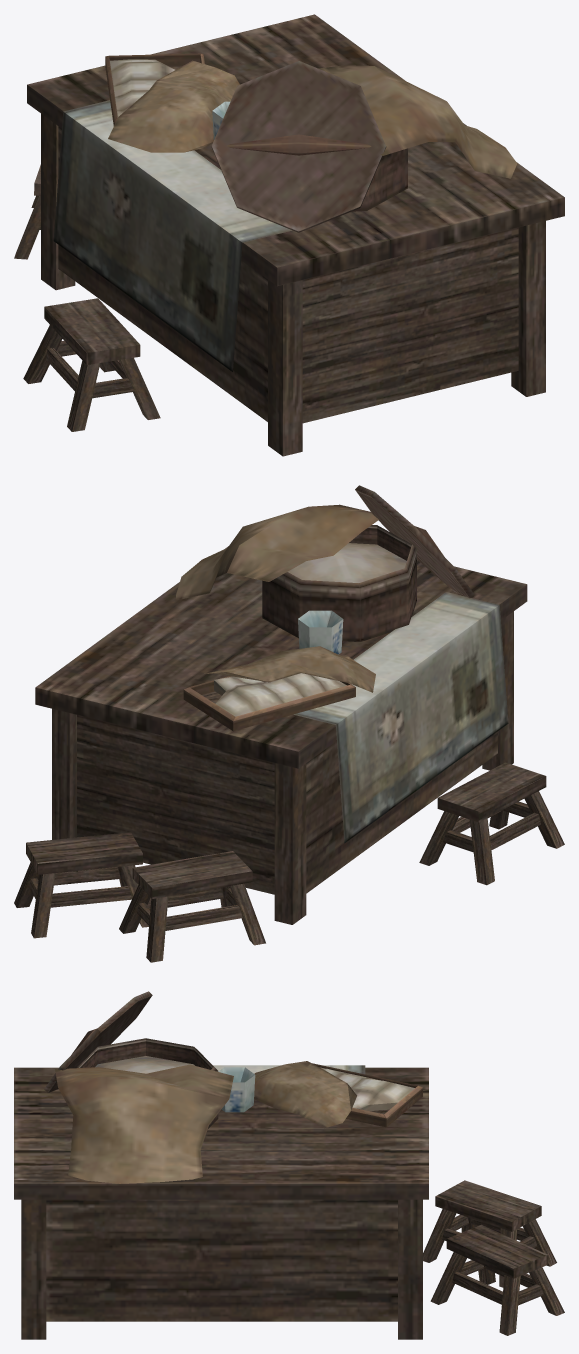
The model's file is food_tent.obj.
3 views of the same model, one above another, from view 1: azimuth 30°, elevation 25°; view 2: azimuth 150°, elevation 25°; view 3: azimuth 270°, elevation 25° (orthographic). The views are drawn at different scales.
Parts seen in each view (by area): view 1: food_tent_1; view 2: food_tent_1; view 3: food_tent_1.
Boxes of the visible parts, box(x1,y1,x2,y2) form: food_tent_1: box(14, 14, 564, 456); food_tent_1: box(14, 485, 564, 962); food_tent_1: box(14, 991, 564, 1339).
Bounding box in the file's own units: 1.69 × 1.26 × 2.34.
Materials: 1 (1 with a texture image).
